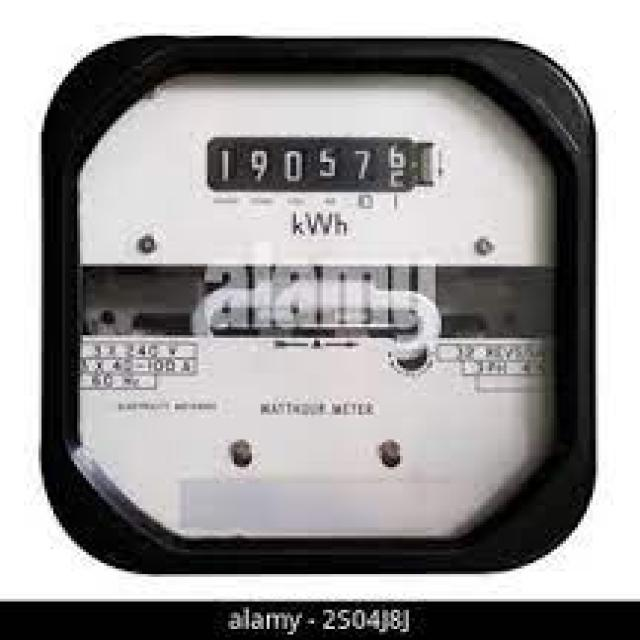0: (278, 139, 311, 187)
1: (207, 138, 240, 192)
5: (310, 139, 348, 186)
7: (346, 138, 378, 188)
9: (241, 140, 277, 187)
analog meter: (202, 133, 426, 198)
